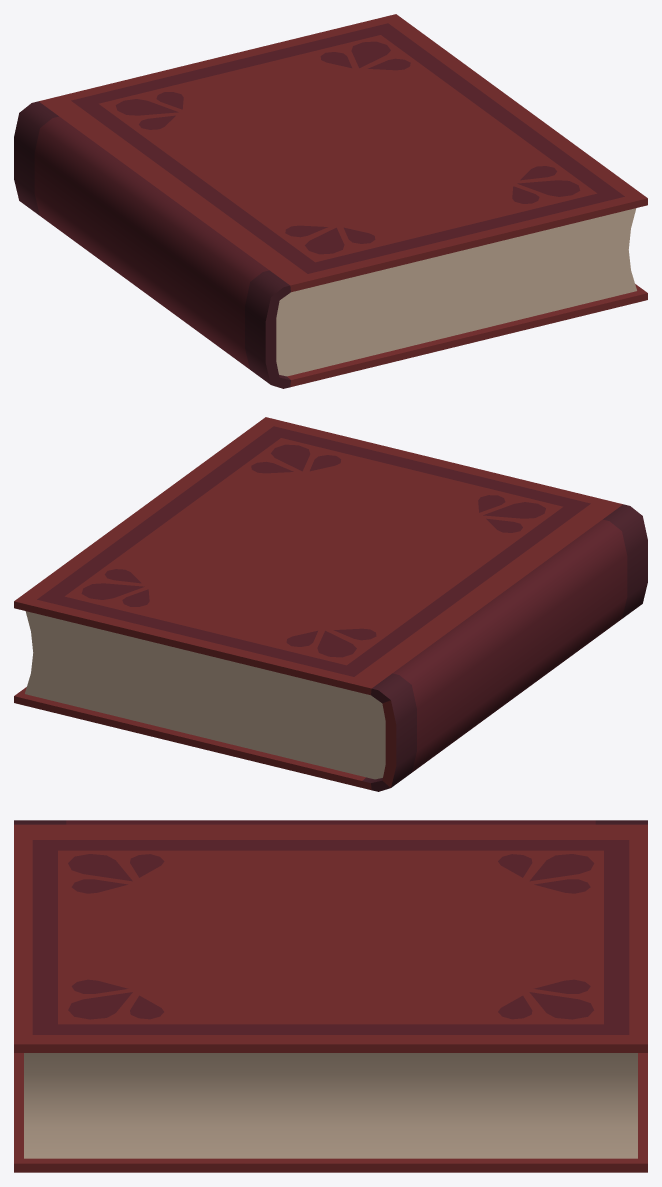
The model's file is Book_08.fbx.
3 views of the same model, one above another, from view 1: azimuth 30°, elevation 25°; view 2: azimuth 150°, elevation 25°; view 3: azimuth 270°, elevation 25° (orthographic). The views are drawn at different scales.
Visible parts, largest first — view 1: Book_08; view 2: Book_08; view 3: Book_08.
Boxes of the visible parts, box(x1,y1,x2,y2) form: Book_08: box(14, 14, 647, 388); Book_08: box(14, 417, 647, 791); Book_08: box(14, 820, 647, 1172).
Size of the model in its own units: 0.2872 by 0.0739 by 0.3277.
